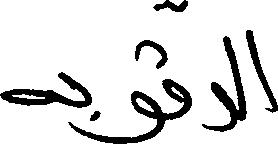X: (132, 0, 161, 143), (203, 31, 233, 136), (165, 0, 189, 125), (246, 25, 277, 118), (61, 67, 90, 142), (0, 84, 51, 110), (235, 51, 244, 129)
